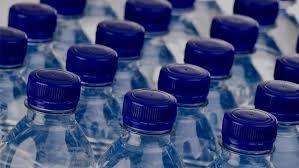Plastic bottle: (0, 1, 299, 168)
